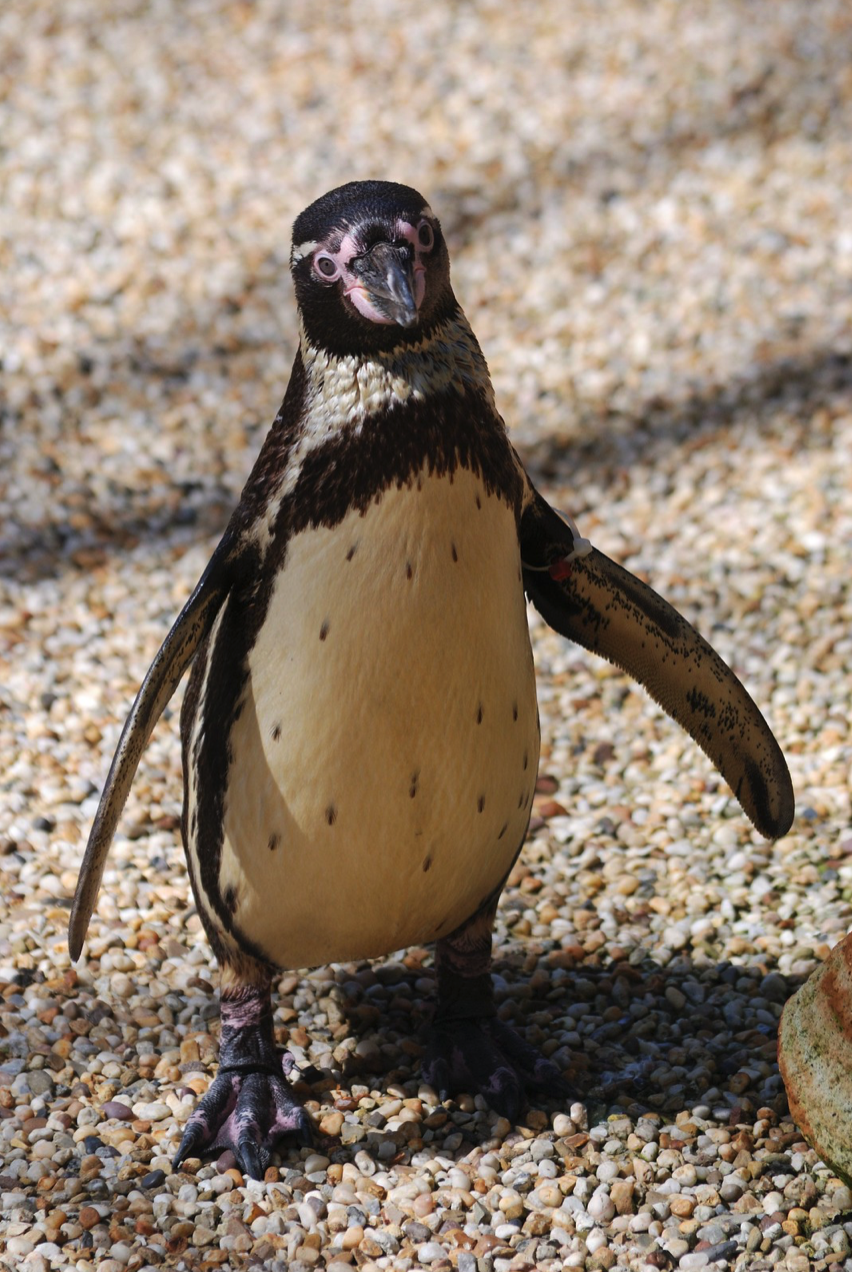penguin: (108, 179, 799, 1144)
